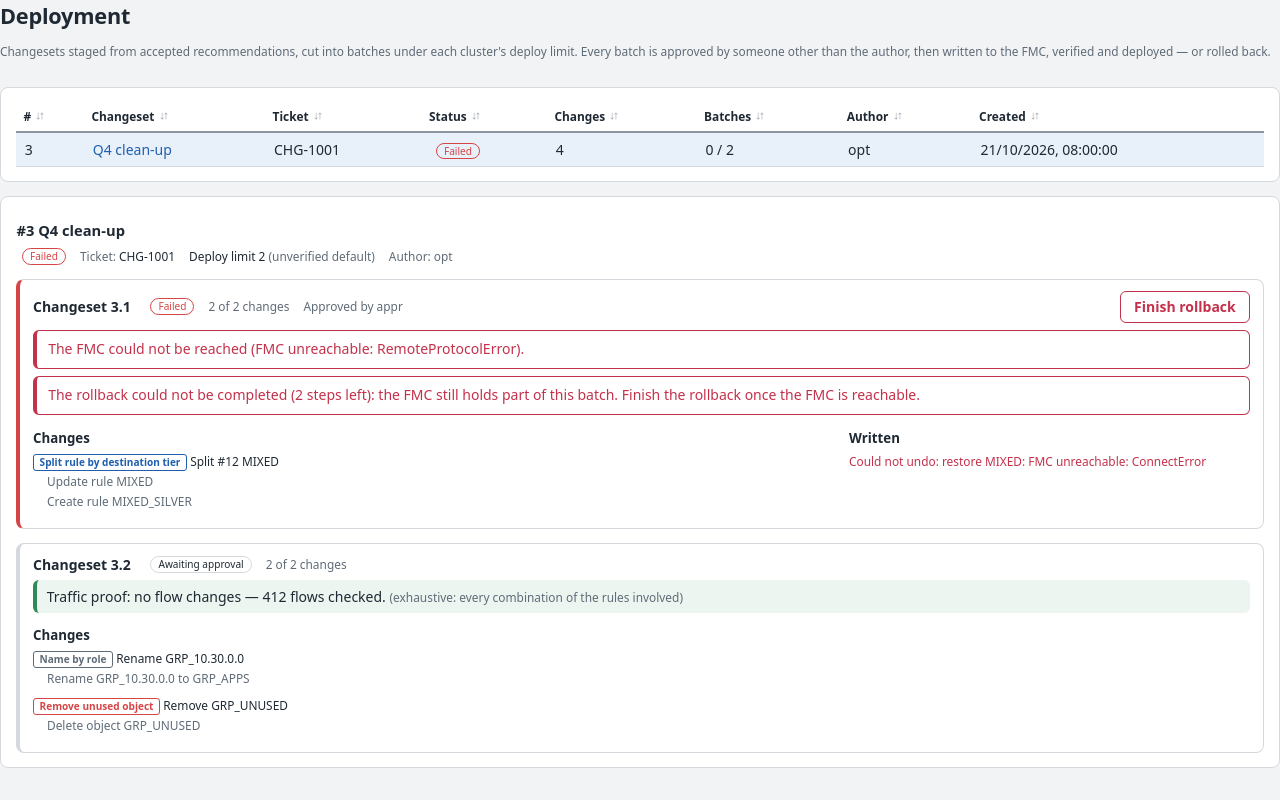
Test: DeployPage › offers to finish an interrupted rollback
The width and height of the screenshot is (1280, 800).
expect the text "rollback could not be completed (2 steps left)" is shown: met, box [48,385,920,404]
Click the button "Finish rollback" at [1185, 307], box [1120,291,1250,323]
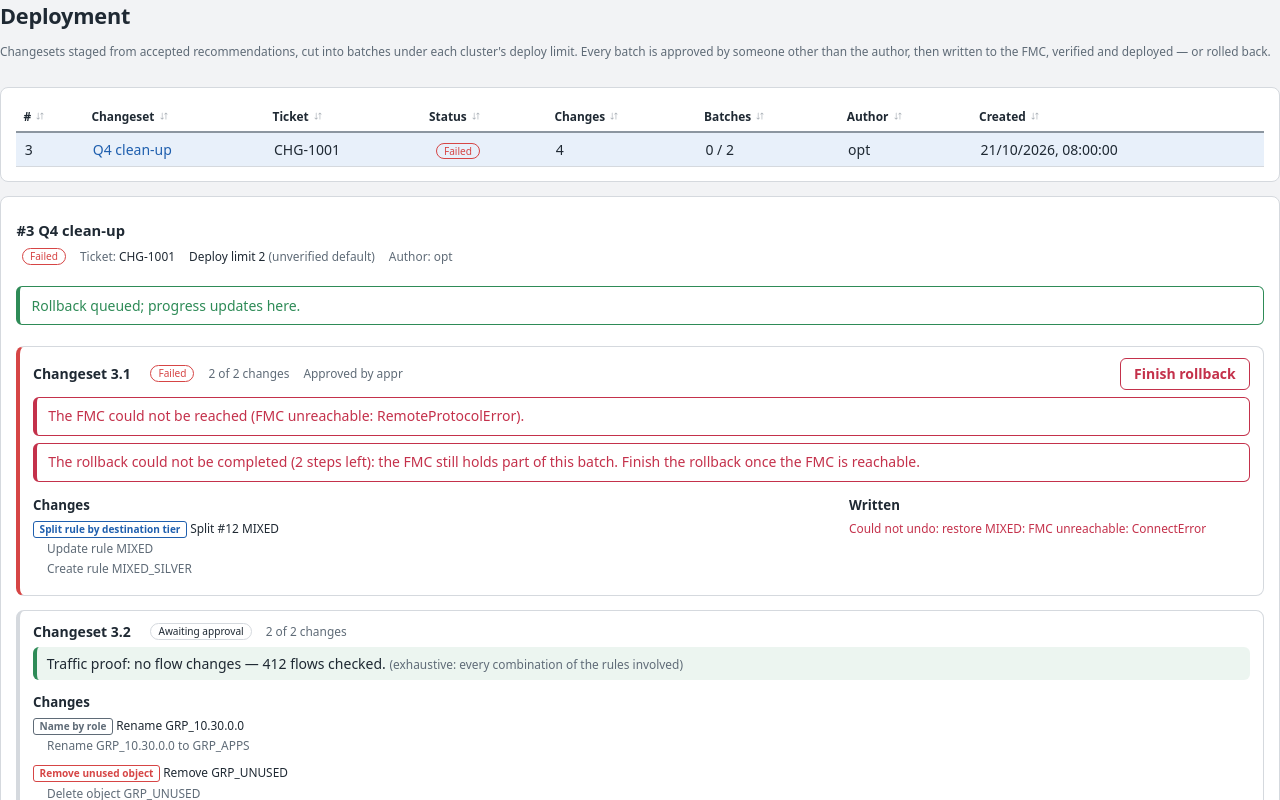
expect the text "Rollback queued; progress updates here." is shown: met, box [16,286,1264,325]
